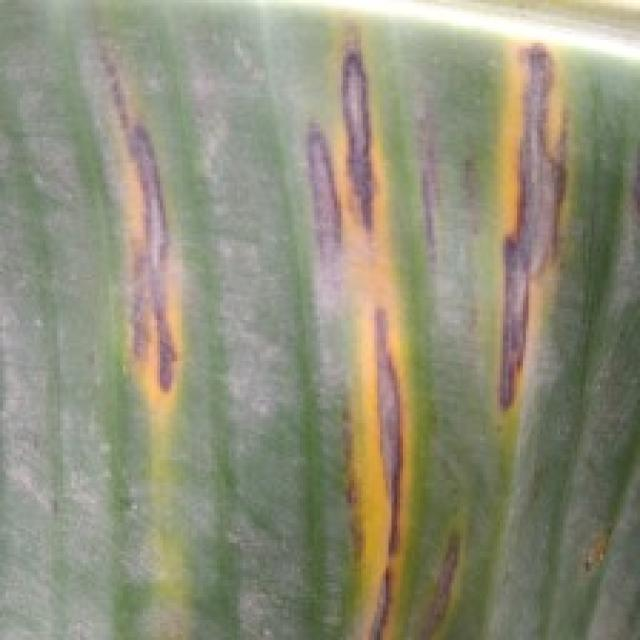Early_leaf_spot: (280, 23, 423, 639), (457, 0, 586, 437), (75, 55, 214, 430)
